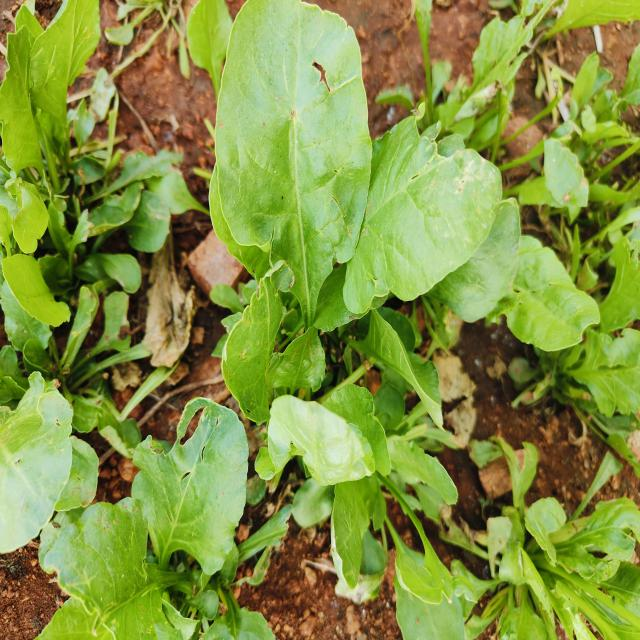leaves: (197, 1, 376, 346), (337, 79, 514, 351), (123, 367, 250, 621), (401, 188, 541, 372), (268, 386, 394, 529), (38, 1, 116, 199), (219, 264, 297, 432), (298, 453, 380, 606), (61, 164, 162, 256), (532, 123, 599, 247), (1, 246, 77, 353), (272, 333, 328, 422), (74, 295, 149, 357), (54, 264, 96, 374), (75, 257, 162, 294)
